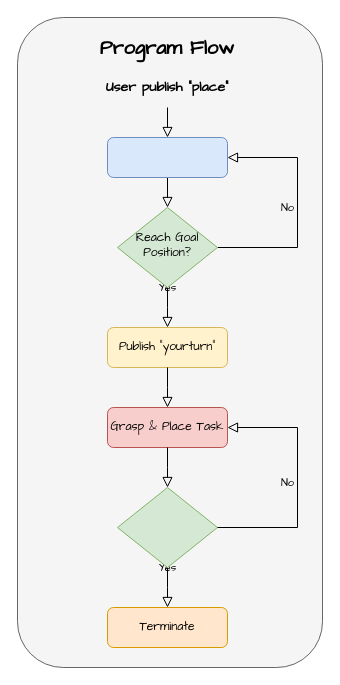
The diagram is 340 pixels wide and 685 high, and some of its shapes have lost their labels. The centre of each missing label's shape, as x and y in pixels:
">= n_grasps?" belongs at (x=167, y=527).
"Navigation Task" belongs at (x=167, y=157).
